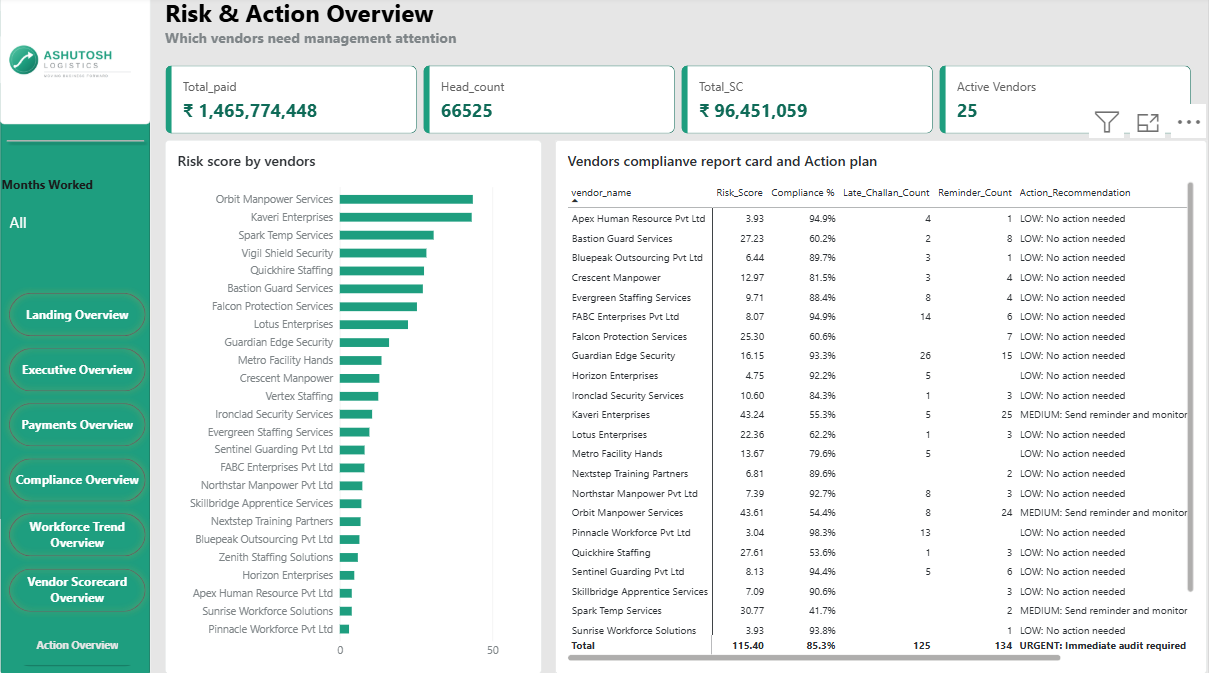

This screenshot's page, from the dashboard's own definition file:
{"tool":"powerbi","page":{"name":"Action Overview","canvas":[1600,900],"ordinal":6},"visuals":[{"type":"shape","box":[0,0,200,900],"z":0},{"type":"textbox","box":[217.8,0,470,84],"z":1000},{"type":"slicer","title":"Months Worked","fields":{"Values":["public dim_date.month_name"]},"box":[1.8,238.1,199.6,84],"z":2000},{"type":"image","box":[0,0,199.6,169.8],"z":3000},{"type":"shape","box":[0,183.8,200,15.4],"z":4000},{"type":"cardVisual","fields":{"Data":["Page 1.Total_paid","Page 1.Head_count","Page 1.Total_SC","Page 1.Active Vendors"]},"box":[217.8,90.9,1363.6,92.6],"z":5000},{"type":"pivotTable","title":"Vendors complianve report card and Action plan","fields":{"Rows":["public dim_vendor.vendor_name"],"Values":["Page 6.Risk_Score","page 3.Compliance %","Page 6.Late_Challan_Count","Page 6.Reminder_Count","Page 6.Action_Recommendation"]},"box":[736.3,191.6,864.1,708.2],"z":6000},{"type":"clusteredBarChart","title":"Risk score by vendors","fields":{"Category":["public dim_vendor.vendor_name"],"Y":["Page 6.Risk_Score"]},"box":[217.9,191.6,499.6,708.2],"z":7000},{"type":"pageNavigator","box":[3.8,385.1,197.2,514.7],"z":8000}]}

Visuals, with their boxes on the page's 1600x900 design canvas (x1, y1, x2, y2). These are canvas units, not pixel positions in the 1209x673 screenshot, which may show the page scaled, cropped or inside an application window:
shape: pyautogui.locateOnScreen(0, 0, 200, 900)
textbox: pyautogui.locateOnScreen(218, 0, 688, 84)
"Months Worked" slicer: pyautogui.locateOnScreen(2, 238, 201, 322)
image: pyautogui.locateOnScreen(0, 0, 200, 170)
shape: pyautogui.locateOnScreen(0, 184, 200, 199)
cardVisual - Page 1.Total_paid x Page 1.Head_count: pyautogui.locateOnScreen(218, 91, 1581, 184)
"Vendors complianve report card and Action plan" pivotTable: pyautogui.locateOnScreen(736, 192, 1600, 900)
"Risk score by vendors" clusteredBarChart: pyautogui.locateOnScreen(218, 192, 718, 900)
pageNavigator: pyautogui.locateOnScreen(4, 385, 201, 900)
